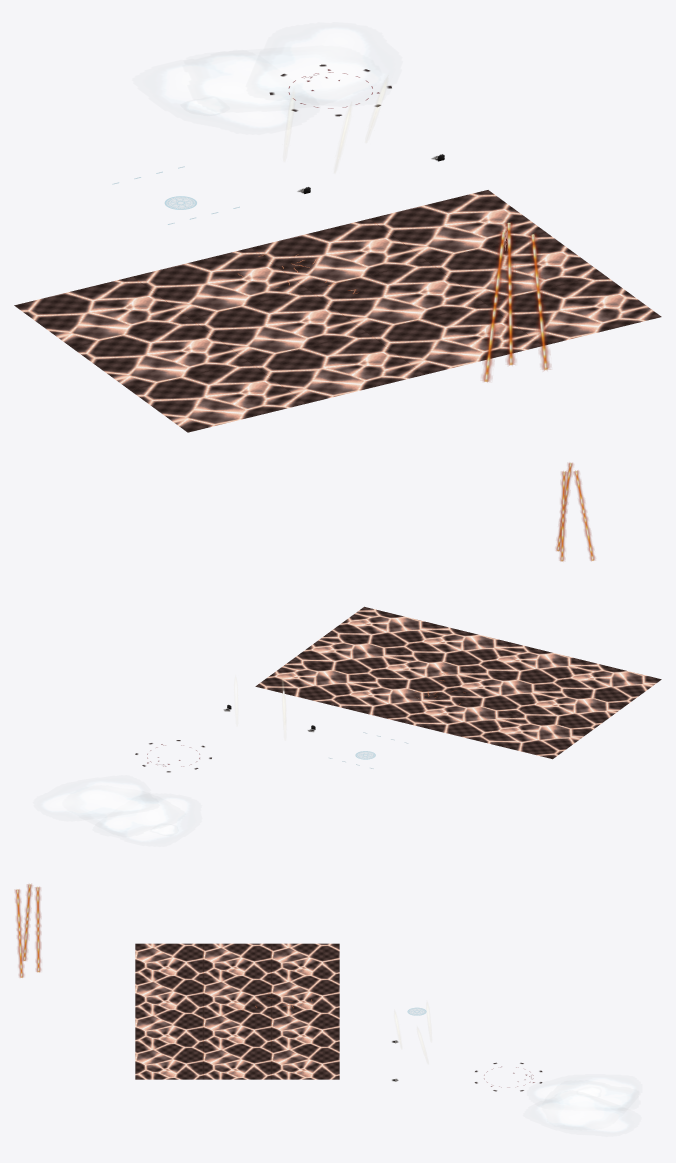
File: emberhold_static_decals_v63.glb
3 views of the same model, one above another, from view 1: azimuth 30°, elevation 25°; view 2: azimuth 150°, elevation 25°; view 3: azimuth 270°, elevation 25° (orthographic). The views are drawn at different scales.
Parts seen in each view (by area): view 1: emberhold_static_decals; view 2: emberhold_static_decals; view 3: emberhold_static_decals.
Part boxes in pixels (x1,y1,x2,y2): emberhold_static_decals: (14, 27, 661, 432); emberhold_static_decals: (41, 462, 661, 841); emberhold_static_decals: (15, 884, 637, 1132).
Size of the model in its own units: 697 by 281 by 1047.
Materials: 6 (6 with a texture image).
